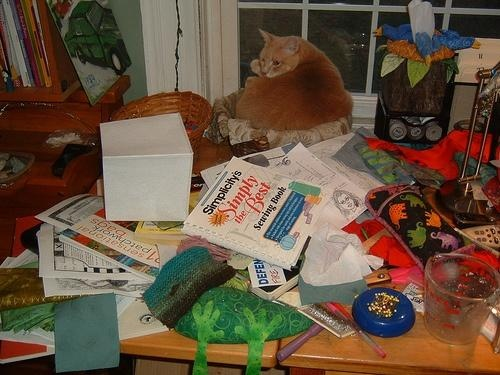cat: (235, 25, 353, 131)
